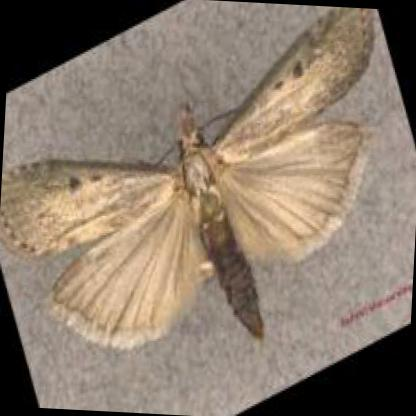Leaf Webber: (0, 7, 370, 347)
